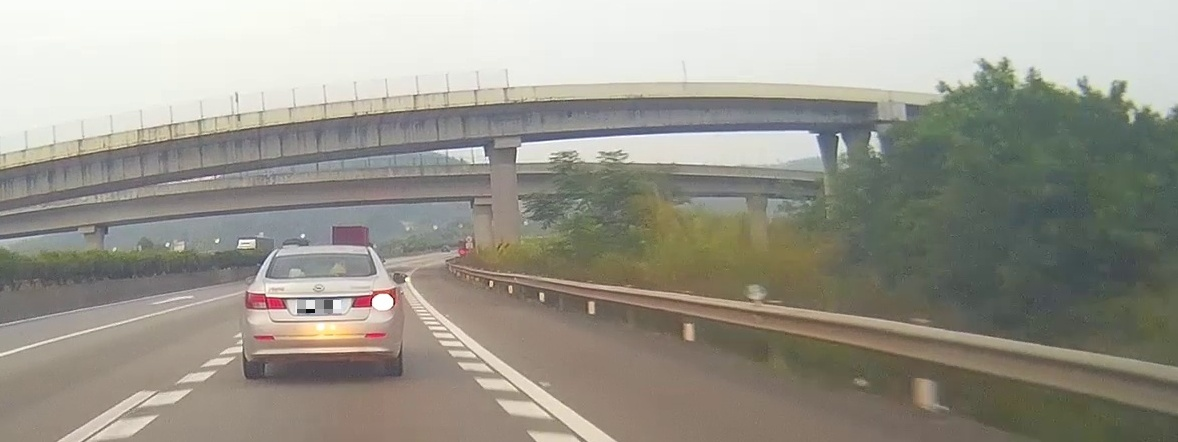L_light: (245, 291, 287, 309)
R_light: (351, 287, 396, 309)
T_light: (310, 253, 331, 256)
day-right: (243, 246, 400, 379)
plate_1: (297, 300, 341, 313)
